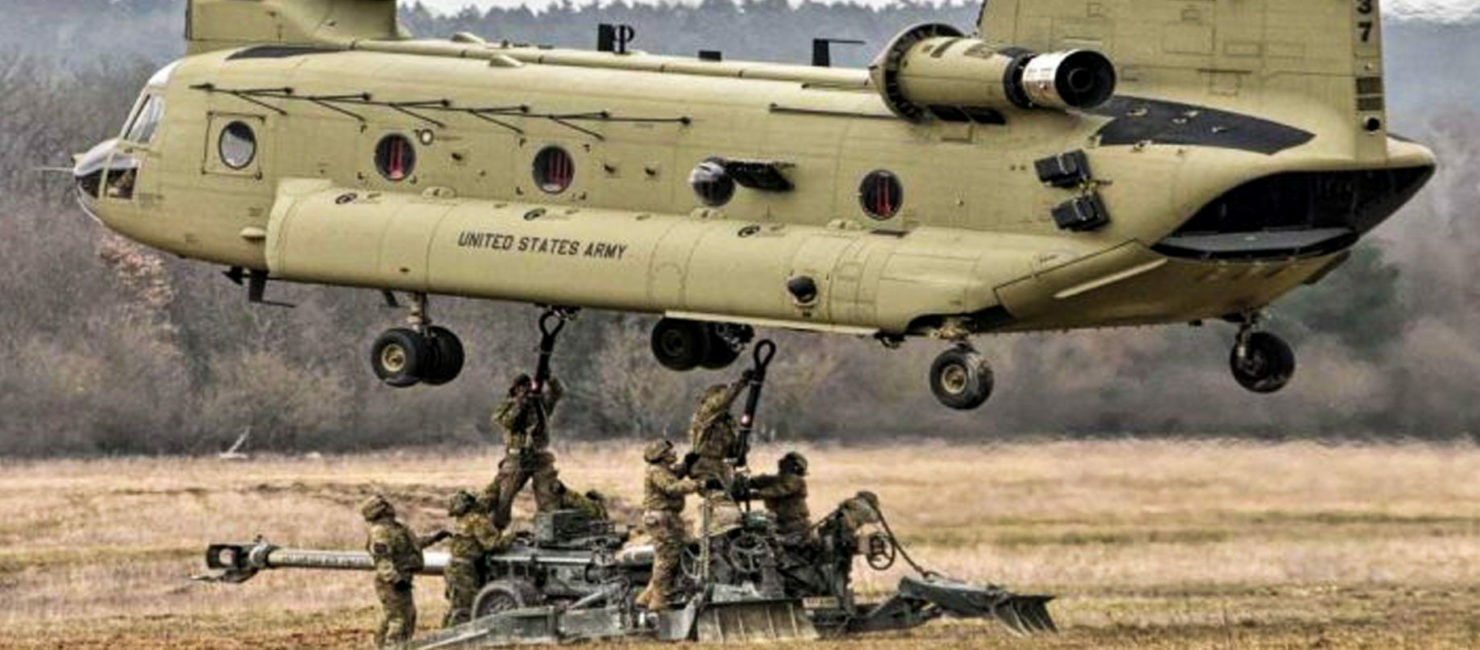chinook: (35, 4, 1447, 411)
